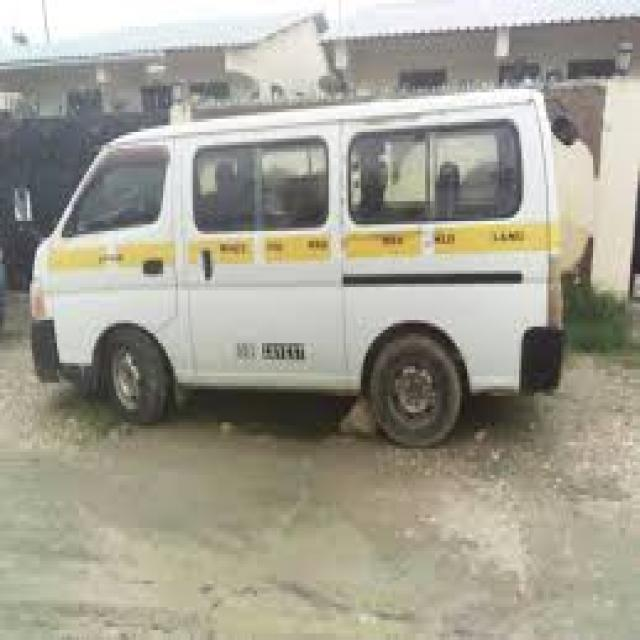matatu: (8, 26, 614, 504)
